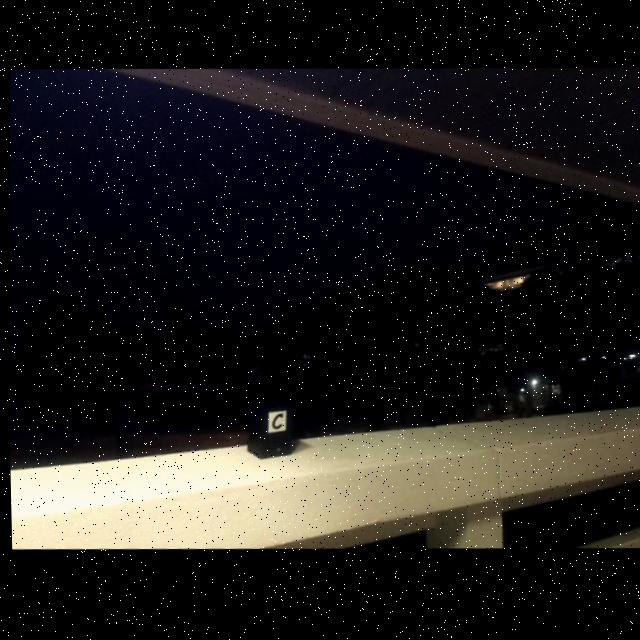C: (269, 415, 281, 430)
